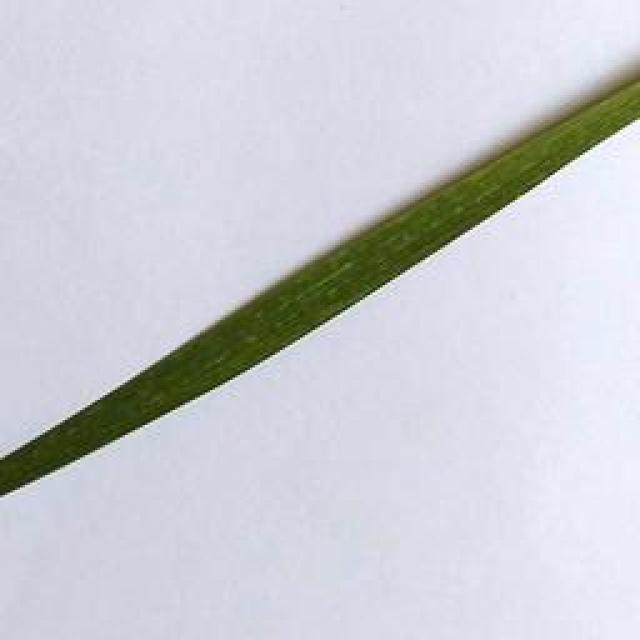Healthy-Plant: (0, 79, 640, 495)
